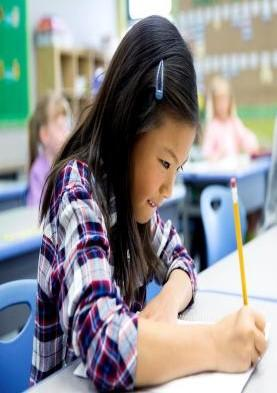good: (20, 12, 271, 393)
